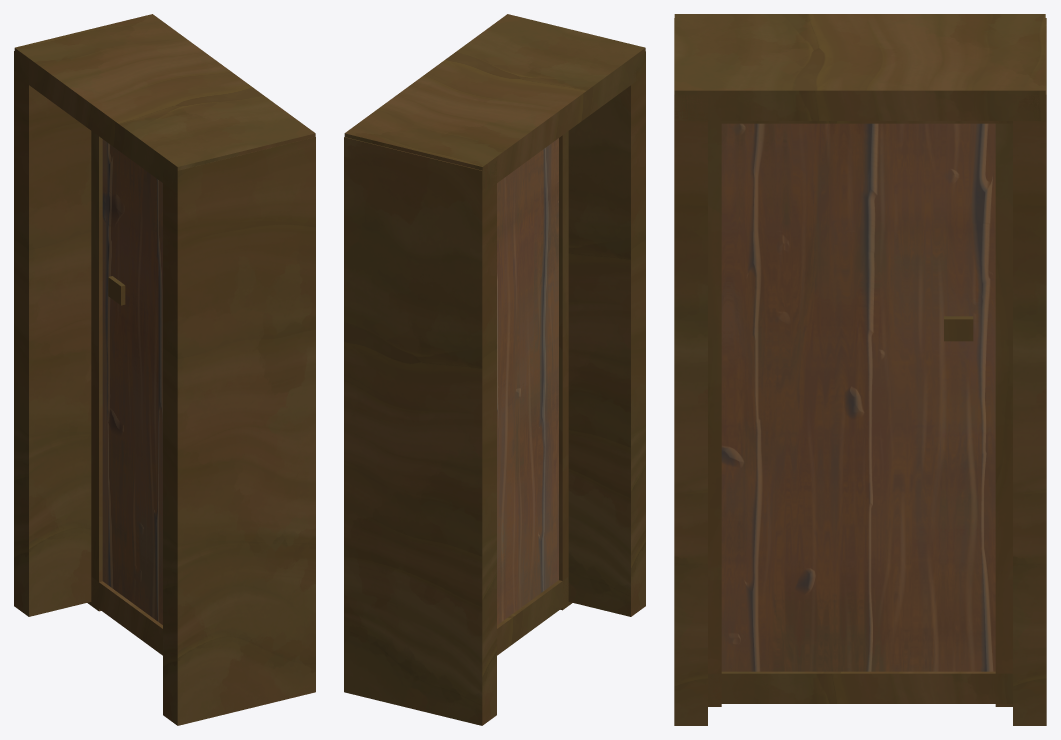
Rendered from porta2F.fbx.
The picture shows the model from 3 angles, left to right: view 1: azimuth 30°, elevation 25°; view 2: azimuth 150°, elevation 25°; view 3: azimuth 270°, elevation 25°; orthographic projection. The views are drawn at different scales.
Visible parts, largest first — view 1: Cube.209, Cube.208, Cube.207, Cube.200, Cube.204, Cube.203; view 2: Cube.208, Cube.209, Cube.200, Cube.207, Cube.202, Cube.203; view 3: Cube.200, Cube.207, Cube.209, Cube.208, Cube.204, Cube.203, Cube.202, Cube.201, Cube.205.
Boxes of the visible parts, left/top/right/bottom form: Cube.209: left=163, top=137, right=315, bottom=725; Cube.208: left=14, top=51, right=91, bottom=616; Cube.207: left=14, top=14, right=315, bottom=192; Cube.200: left=102, top=139, right=162, bottom=624; Cube.204: left=87, top=131, right=102, bottom=611; Cube.203: left=90, top=577, right=162, bottom=655; Cube.208: left=344, top=137, right=496, bottom=725; Cube.209: left=568, top=51, right=645, bottom=616; Cube.200: left=497, top=138, right=558, bottom=624; Cube.207: left=344, top=14, right=645, bottom=193; Cube.202: left=559, top=131, right=572, bottom=610; Cube.203: left=497, top=577, right=569, bottom=655; Cube.200: left=721, top=123, right=995, bottom=671; Cube.207: left=674, top=14, right=1045, bottom=120; Cube.209: left=674, top=18, right=707, bottom=725; Cube.208: left=1013, top=18, right=1046, bottom=725; Cube.204: left=995, top=122, right=1012, bottom=706; Cube.203: left=708, top=671, right=1012, bottom=703; Cube.202: left=708, top=123, right=721, bottom=706; Cube.201: left=708, top=121, right=1012, bottom=123; Cube.205: left=944, top=316, right=973, bottom=341.
Bounding box in the file's own units: 161 × 626 × 330.
